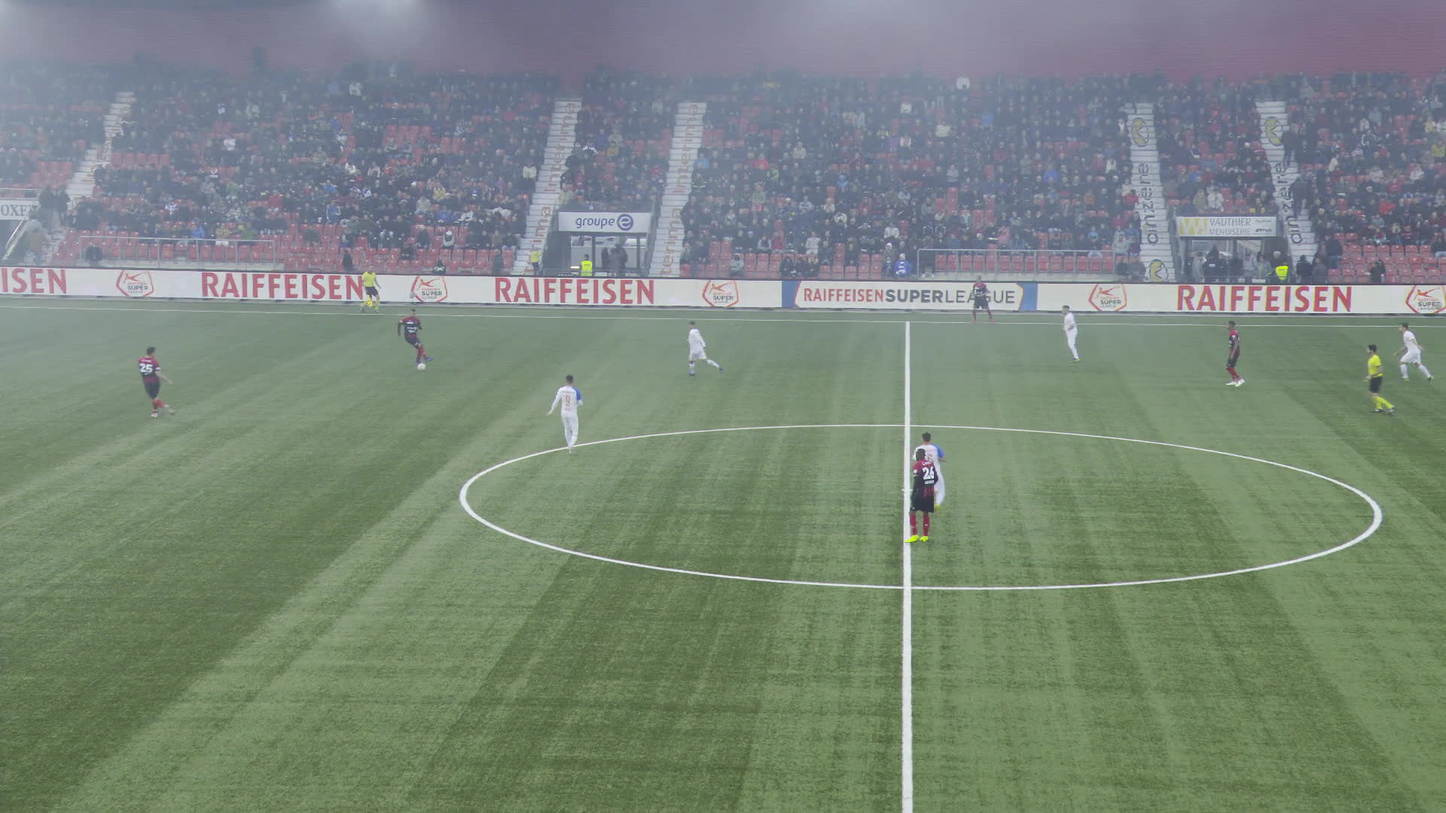ball: (417, 363, 426, 370)
player: (139, 346, 184, 416), (545, 373, 582, 453), (908, 447, 937, 542), (913, 430, 945, 514), (1395, 323, 1432, 382), (684, 320, 721, 376), (396, 309, 433, 364), (1223, 320, 1246, 387), (969, 275, 994, 324), (1060, 305, 1079, 362)
referee: (1359, 343, 1390, 413), (358, 263, 380, 312)
